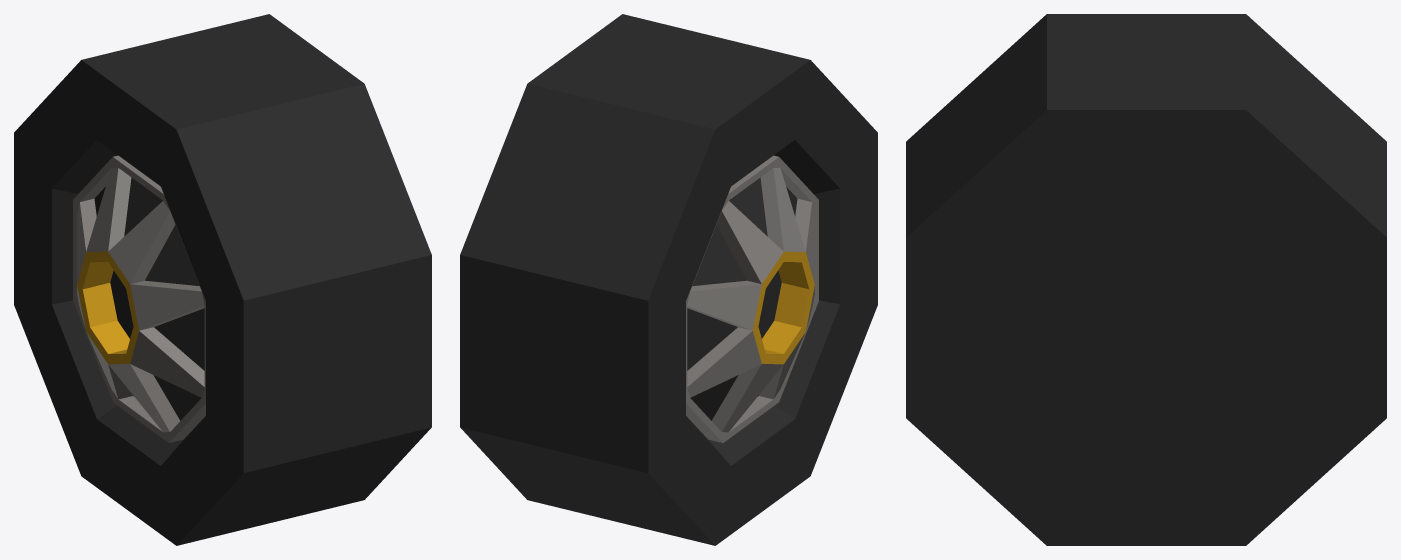
File: Tire_C_01.FBX
3 renders of one model, left to right at view 1: azimuth 30°, elevation 25°; view 2: azimuth 150°, elevation 25°; view 3: azimuth 270°, elevation 25°, orthographic. The views are drawn at different scales.
Parts seen in each view (by area): view 1: Tire_C_01; view 2: Tire_C_01; view 3: Tire_C_01.
Boxes of the visible parts, x1,y1,x2,y2 form: Tire_C_01: (14,14,431,545); Tire_C_01: (460,14,877,545); Tire_C_01: (906,14,1386,545).
Size of the model in its own units: 0.4193 by 0.7988 by 0.7988.
